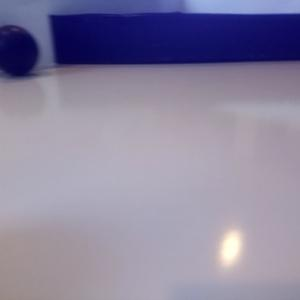zone: (47, 11, 300, 64)
